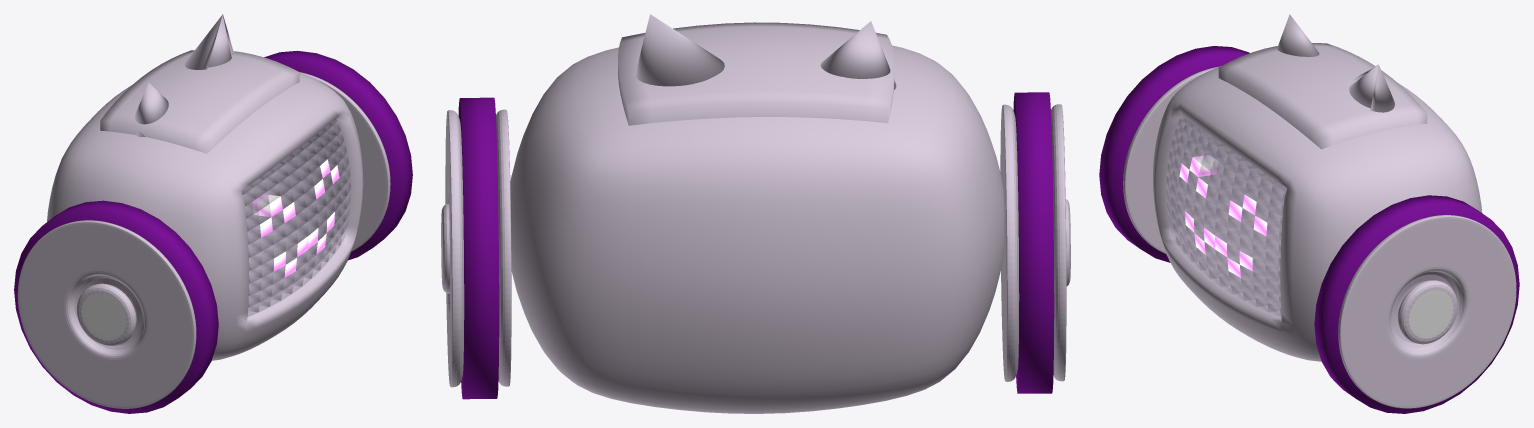
File: robot.glb
3 renders of one model, left to right at view 1: azimuth 30°, elevation 25°; view 2: azimuth 150°, elevation 25°; view 3: azimuth 270°, elevation 25°, orthographic. The views are drawn at different scales.
Parts seen in each view (by area): view 1: Circle, Cube, Cube.001, Cube.002, cat insde, Cone; view 2: Cube, Circle, Cube.002, Cone, cat insde; view 3: Cube, Circle, Cube.001, Cube.002, cat insde, Cone.
Boxes of the visible parts, <box> form: Circle: <box>14,50,412,413</box>; Cube: <box>47,72,363,360</box>; Cube.001: <box>241,119,350,316</box>; Cube.002: <box>100,50,299,153</box>; cat insde: <box>135,15,231,137</box>; Cone: <box>184,14,234,69</box>; Cube: <box>510,45,1004,413</box>; Circle: <box>441,92,1070,399</box>; Cube.002: <box>618,22,894,125</box>; Cone: <box>635,14,724,86</box>; cat insde: <box>820,21,896,89</box>; Cube: <box>1152,65,1482,361</box>; Circle: <box>1099,46,1519,413</box>; Cube.001: <box>1166,116,1287,317</box>; Cube.002: <box>1218,43,1427,149</box>; cat insde: <box>1277,14,1378,108</box>; Cone: <box>1346,64,1394,112</box>.
Size of the model in its own units: 3.88 by 2.49 by 3.28.
